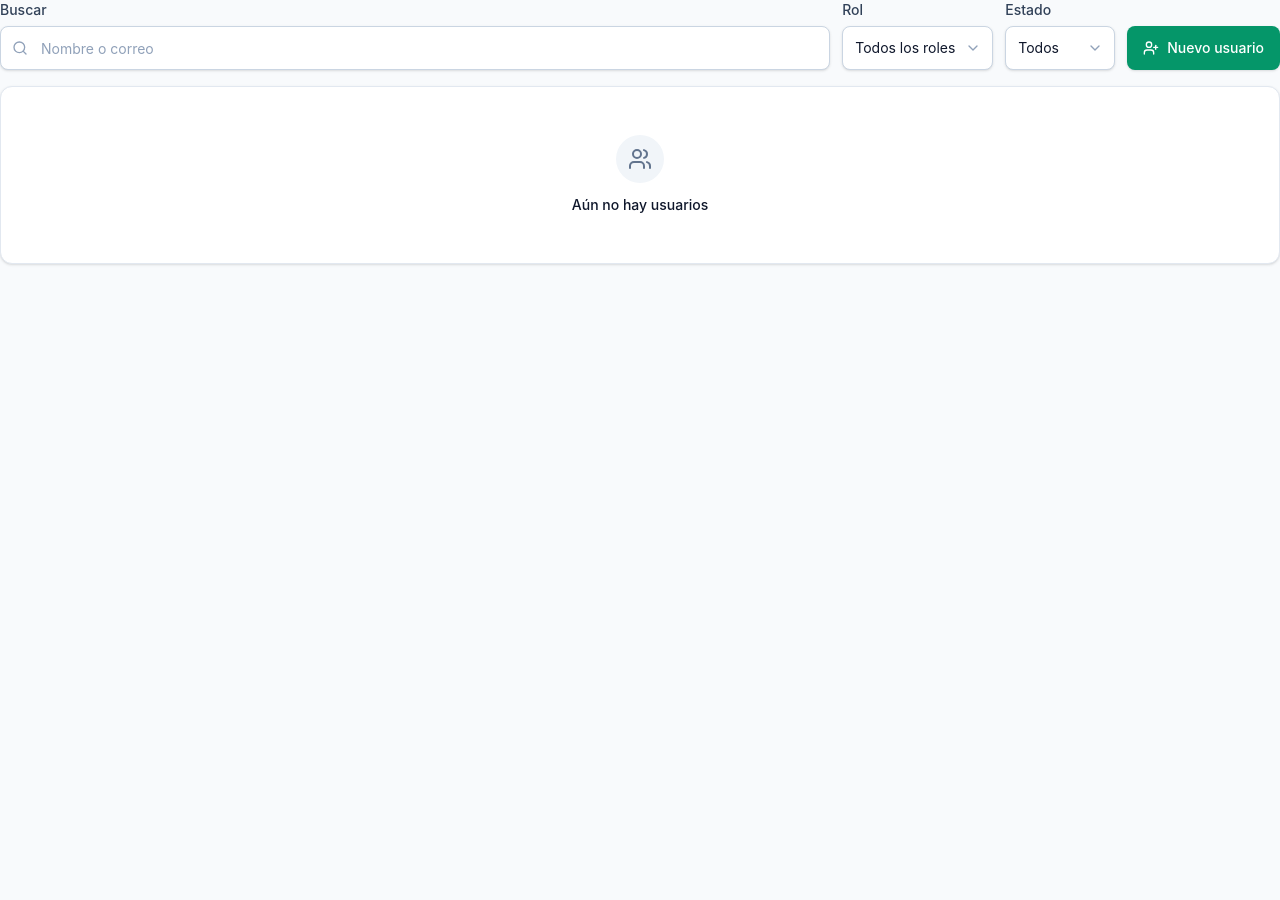
Test: UsersListPage › muestra en el campo el error de correo duplicado que devuelve el servidor
The width and height of the screenshot is (1280, 900).
Click the button "Nuevo usuario" at (1204, 48), box left=1127, top=26, right=1279, bottom=70
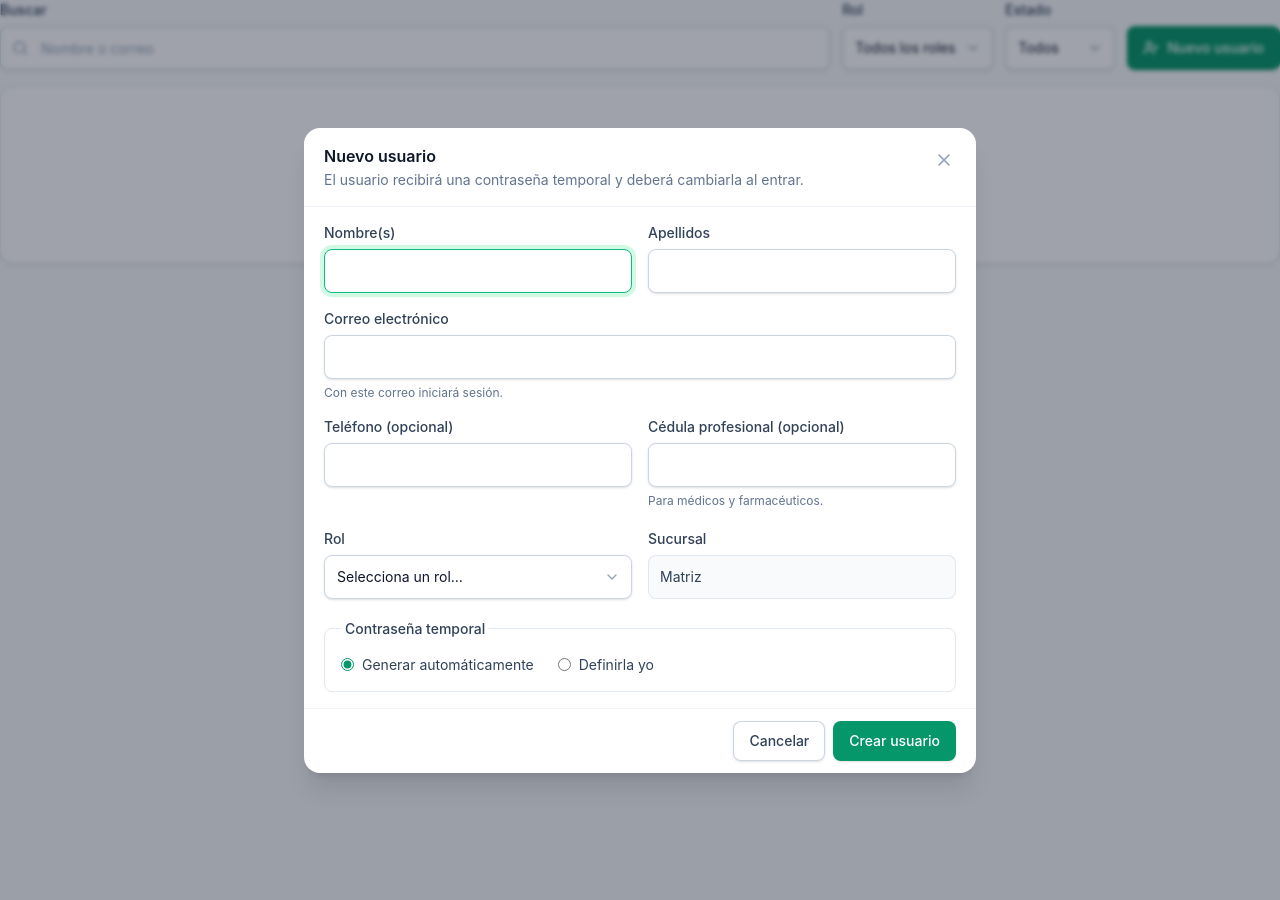
Type "A" into the field labelled "Nombre(s)" at (478, 270), box left=324, top=248, right=632, bottom=292
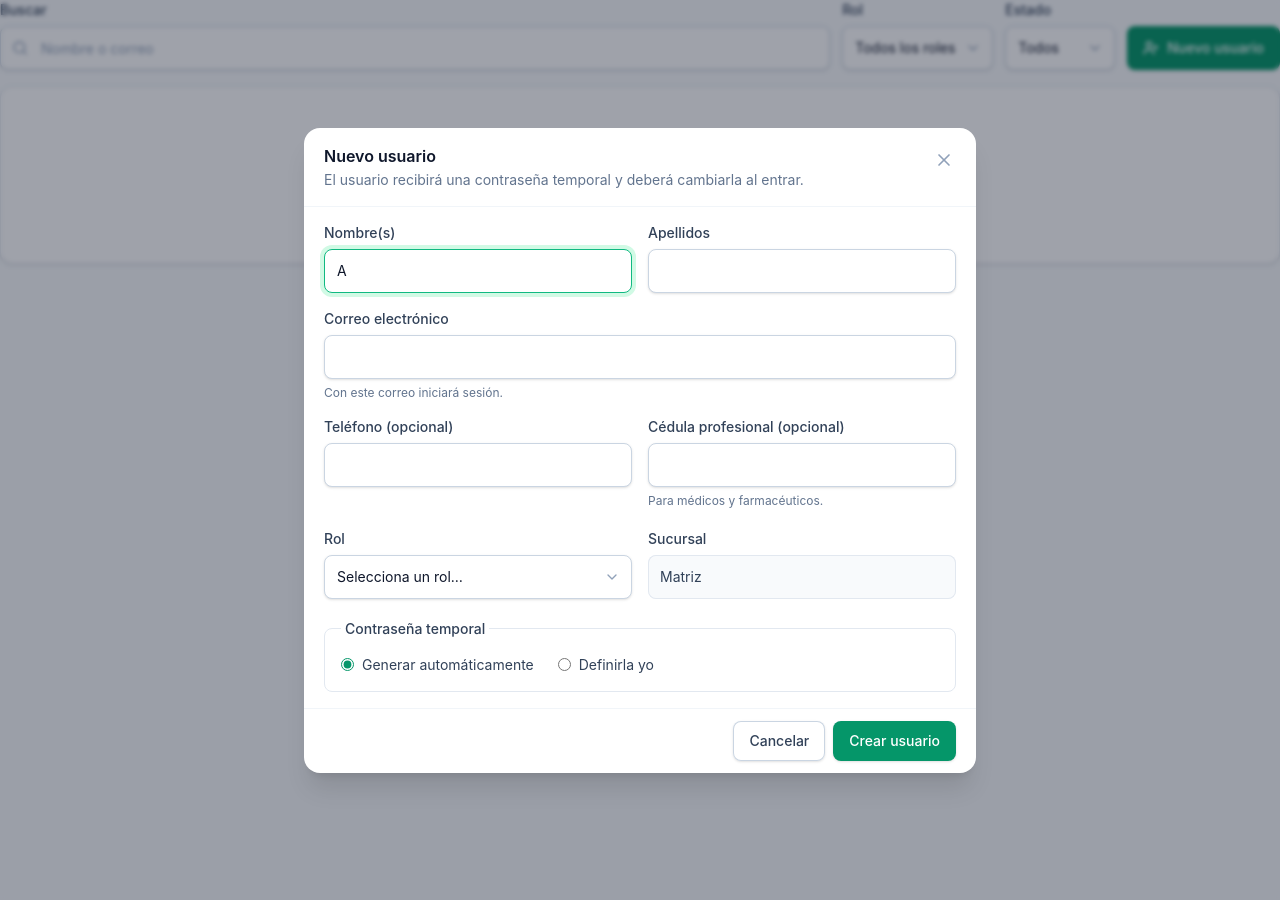
Type "B" into the field labelled "Apellidos" at (802, 270), box left=648, top=248, right=956, bottom=292
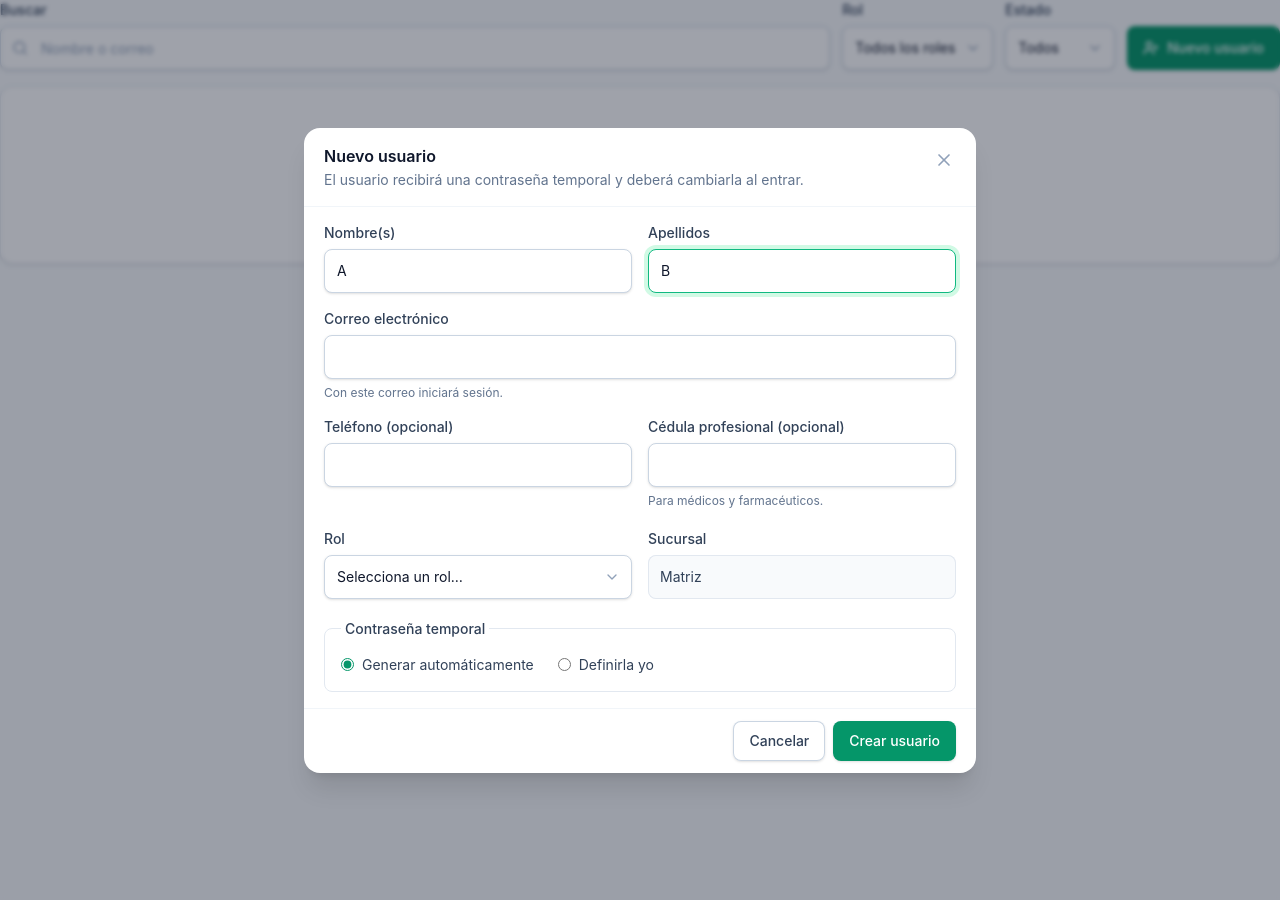
Type "repetido@test.local" into the field labelled "Correo electrónico" at (640, 356), box left=324, top=334, right=956, bottom=378
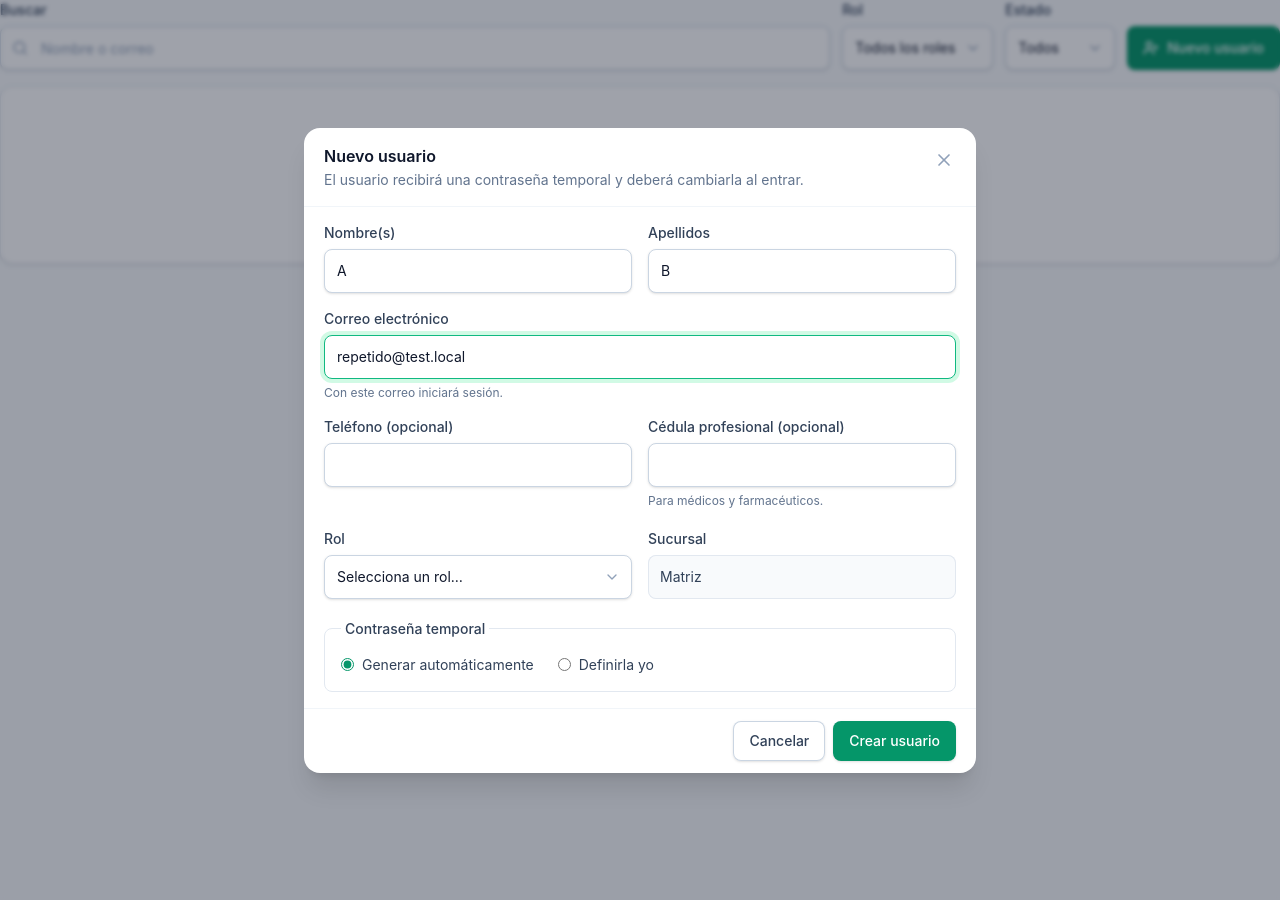
Select "Cajero" in the dropdown labelled "Rol" at (478, 576), box left=324, top=554, right=632, bottom=598
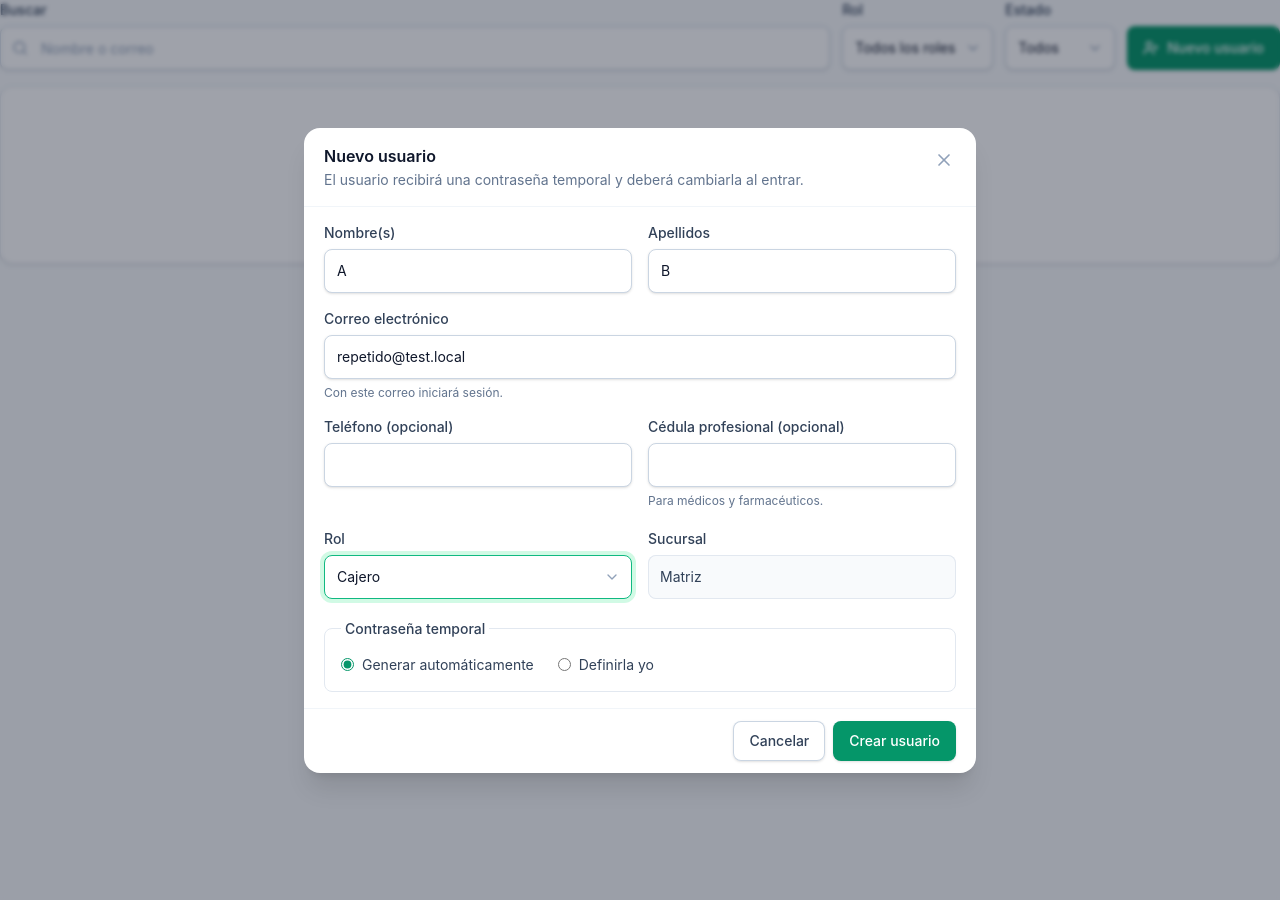
Click the button "Crear usuario" at (895, 740), box left=833, top=720, right=956, bottom=760
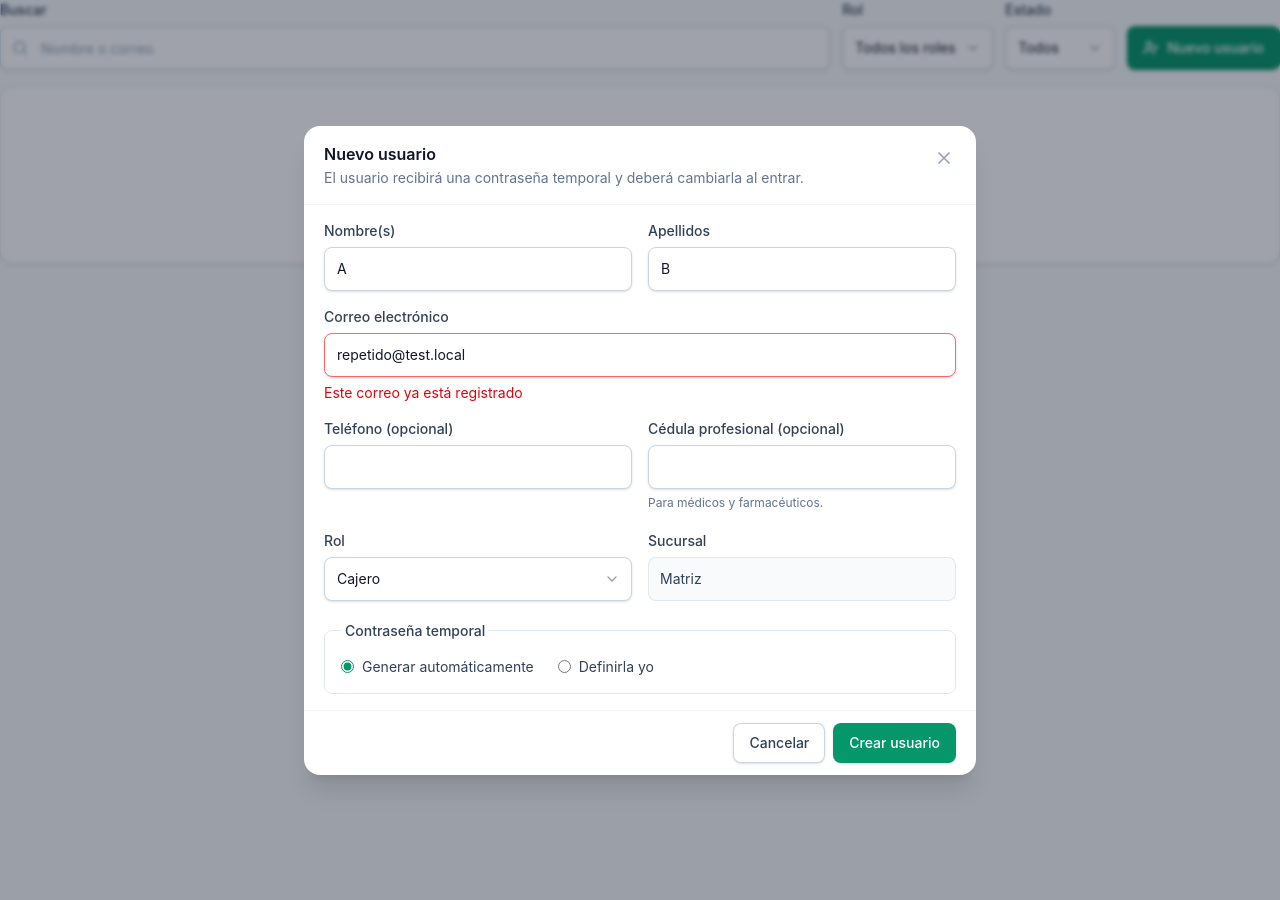
Now the text "Este correo ya está registrado" is shown, box left=324, top=384, right=523, bottom=400
